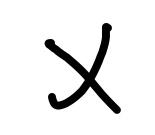mult: (43, 21, 126, 116)
